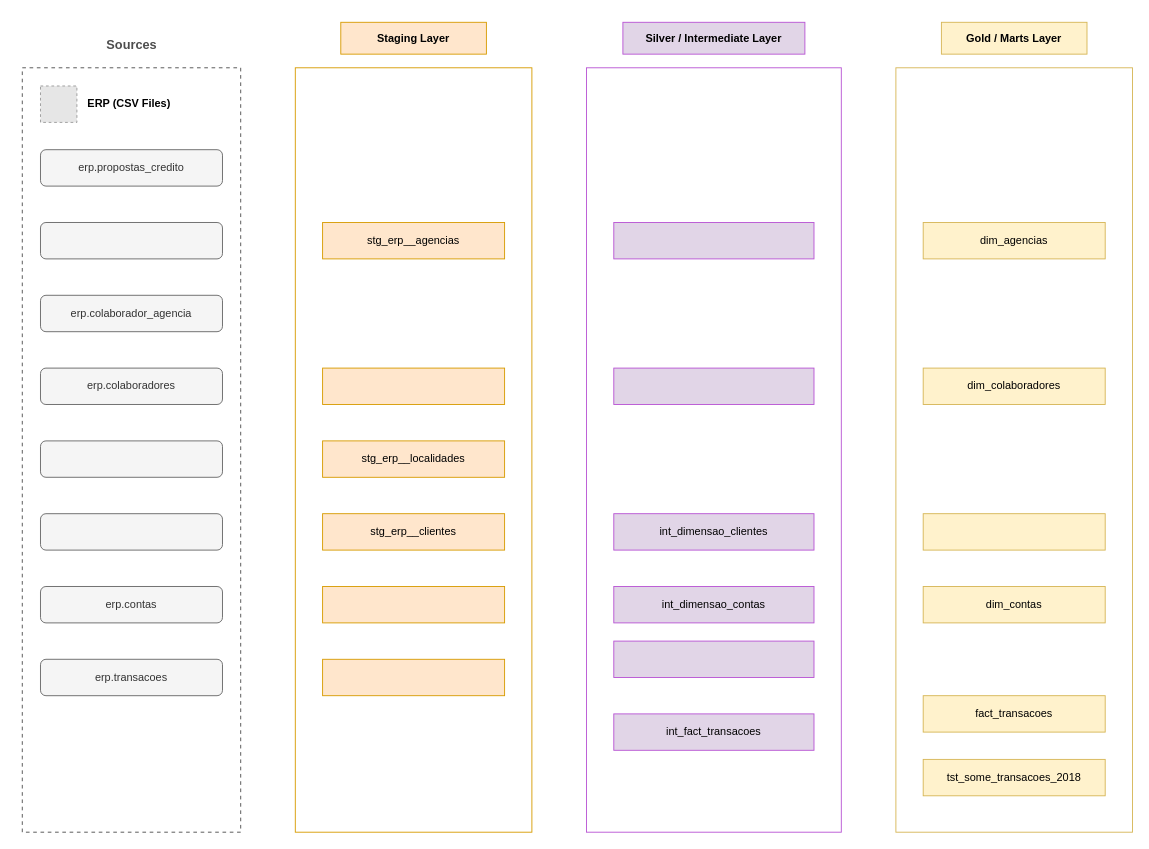
This 1149x849 diagram has some shape labels left out. Grey dashed boxes stand in for pictures. The shapes that lost their labels are listed below. From the top down, each one's box as (x1, y1, x2, y2) in pixels, then its label:
(40, 222, 222, 259): erp.agencias
(613, 222, 814, 259): int_dimensao_agencias
(322, 367, 505, 404): stg_erp__colaboradores
(613, 367, 814, 404): int_dimensao_colaboradores
(40, 440, 222, 477): erp.localidades
(40, 513, 222, 550): erp.clientes
(922, 513, 1105, 550): dim_clientes
(322, 586, 505, 623): stg_erp__contas
(322, 658, 505, 696): stg_erp__transacoes
(613, 640, 814, 677): int_fact_contas
